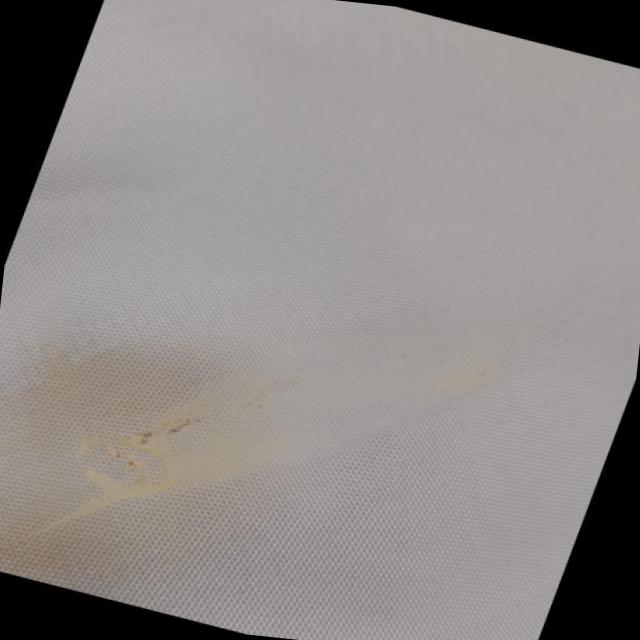stain: (0, 277, 369, 640)
